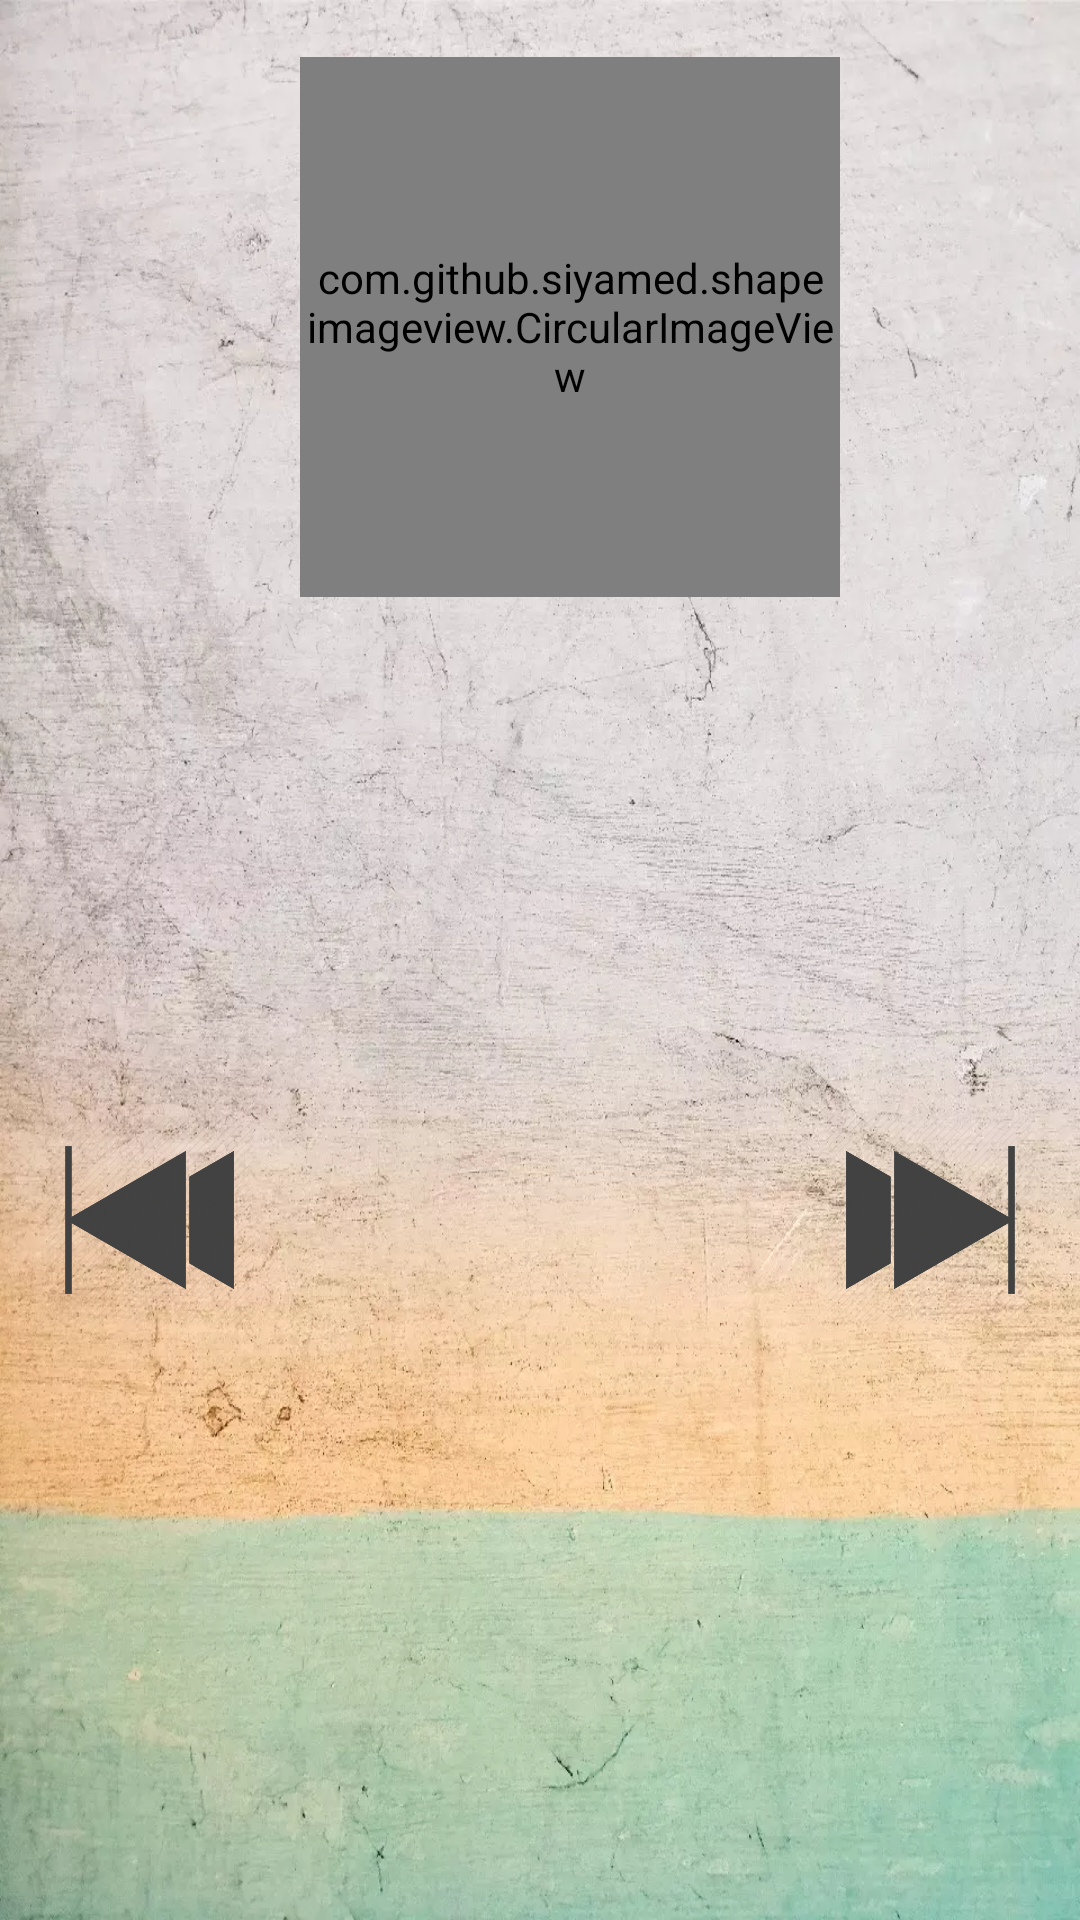

Icons on this 1080 x 1920 Android screen, each with the point to tap as point (x, y):
forward: point (930, 1220)
pre: point (150, 1220)
